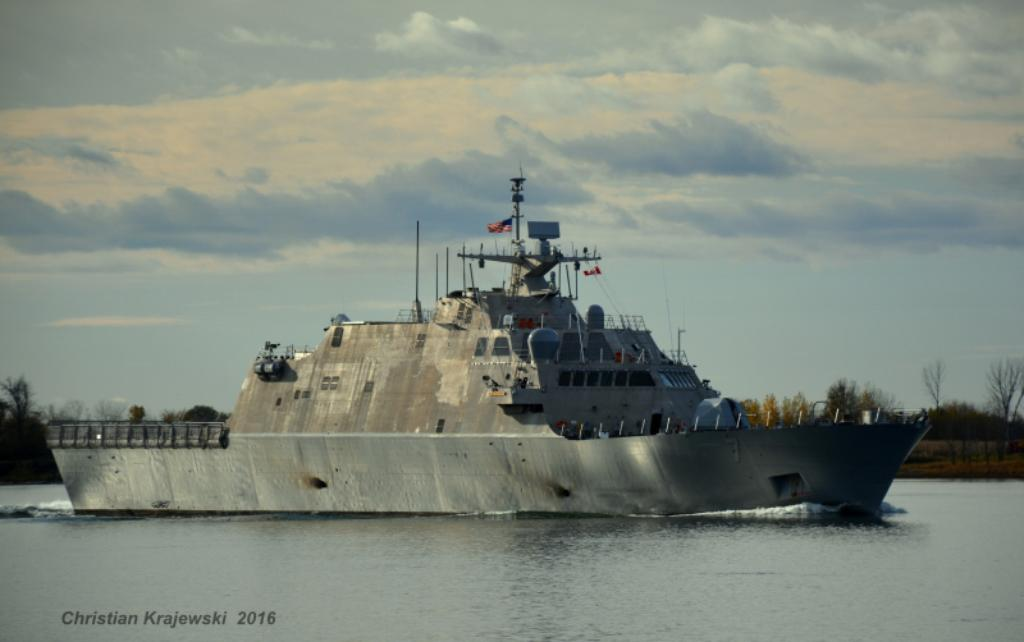Warship: (39, 165, 937, 517)
